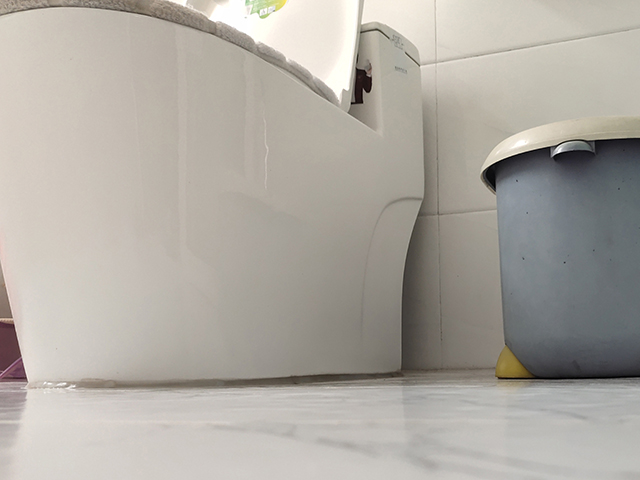closestool: (1, 1, 426, 387)
trashcan: (478, 112, 640, 381)
